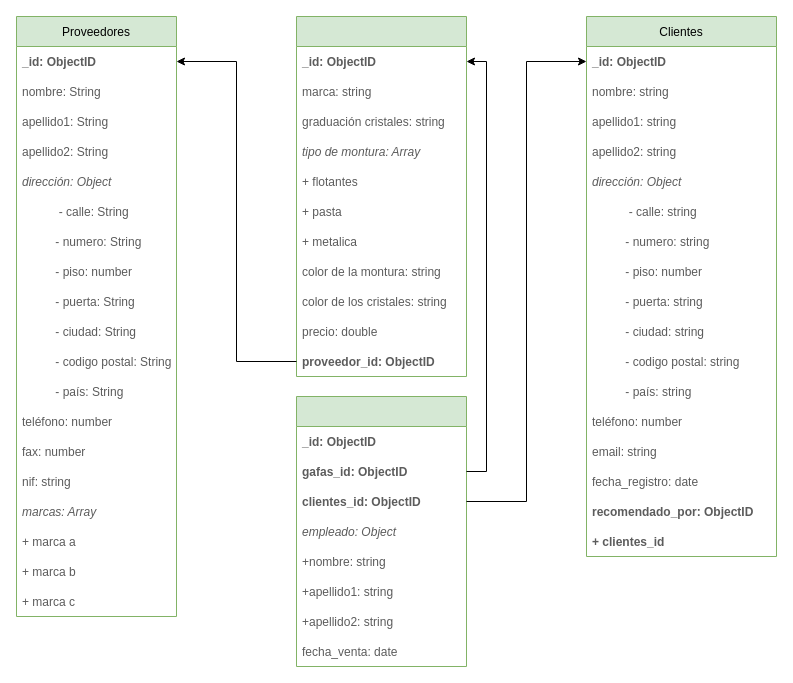
Image size: 793x683. Some labels were removed from this diagram. The box of each missing label's shape, as (x1, y1, x2, y2) in pixels:
Gafas: (296, 16, 466, 376)
Ventas: (296, 396, 466, 666)
